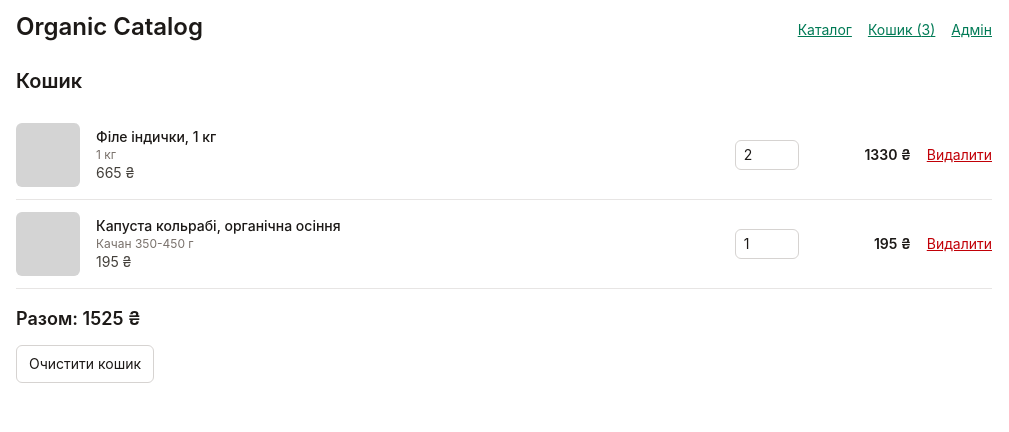
Test case: BasketPage › Removing a line fails
Click the button "Видалити" next to "1330 ₴". click: (959, 155)
box: [927, 145, 992, 165]
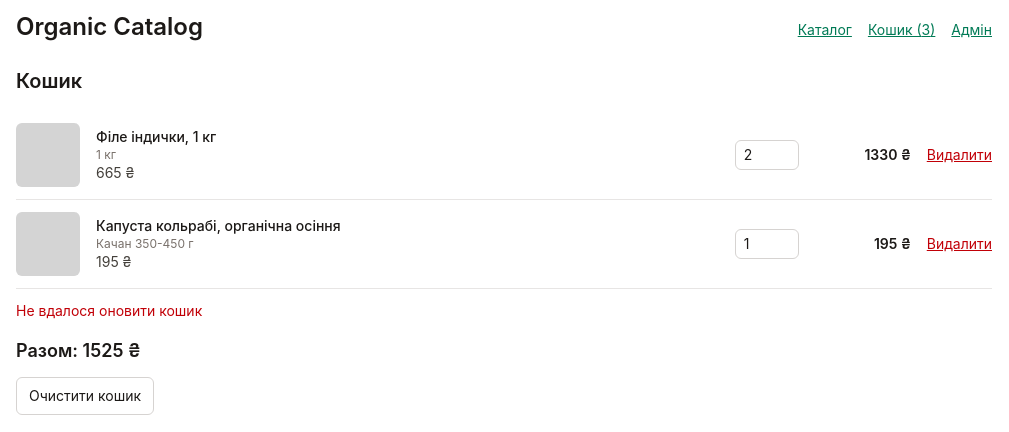
expect the number of list items is 2: met, box [16, 111, 992, 200]; [16, 200, 992, 289]
expect the message reads "Не вдалося оновити кошик": met, box [16, 302, 202, 319]
